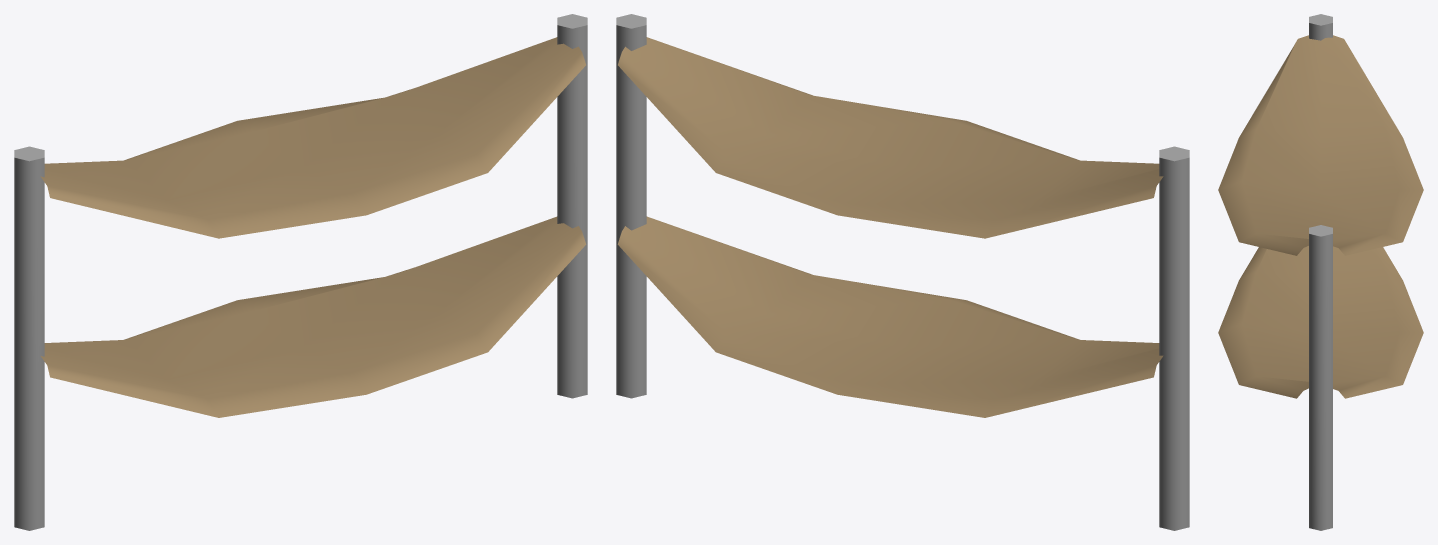
File: HangMat.fbx
3 renders of one model, left to right at view 1: azimuth 30°, elevation 25°; view 2: azimuth 150°, elevation 25°; view 3: azimuth 270°, elevation 25°, orthographic. The views are drawn at different scales.
Visible parts, largest first — view 1: hangmat1, hangmat, woodpillar, woodpillar1; view 2: hangmat1, hangmat, woodpillar, woodpillar1; view 3: hangmat1, hangmat, woodpillar1, woodpillar.
Part boxes in pixels (x1,y1,x2,y2): hangmat1: (40, 37, 585, 238); hangmat: (41, 216, 586, 417); woodpillar: (14, 146, 44, 530); woodpillar1: (557, 14, 587, 398); hangmat1: (618, 37, 1163, 238); hangmat: (617, 216, 1163, 417); woodpillar: (1159, 146, 1189, 530); woodpillar1: (616, 14, 646, 398); hangmat1: (1218, 35, 1423, 255); hangmat: (1218, 246, 1423, 398); woodpillar1: (1309, 225, 1332, 530); woodpillar: (1309, 14, 1332, 40).
Size of the model in its own units: 3.27 by 2.02 by 1.28.
